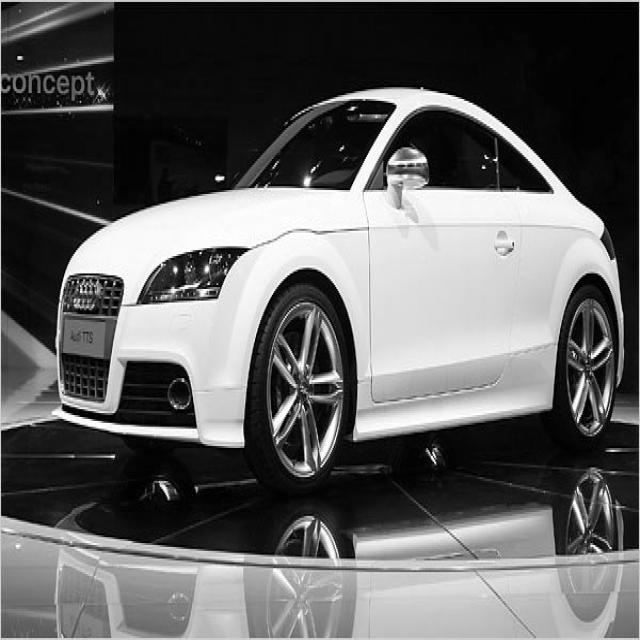car: (52, 84, 625, 496)
